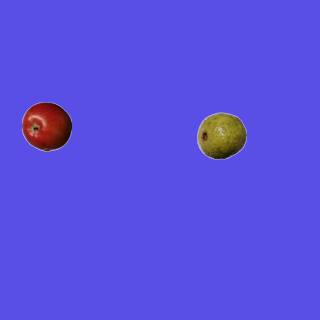Apple Braeburn: (21, 101, 71, 151)
Guava: (196, 110, 246, 160)
